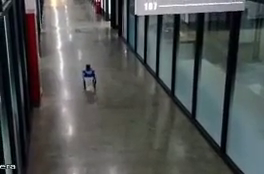robot dog: (82, 63, 97, 92)
